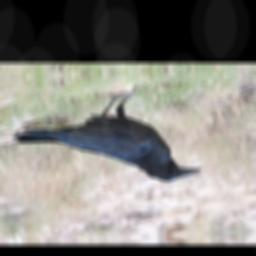Crow: (8, 84, 204, 190)
